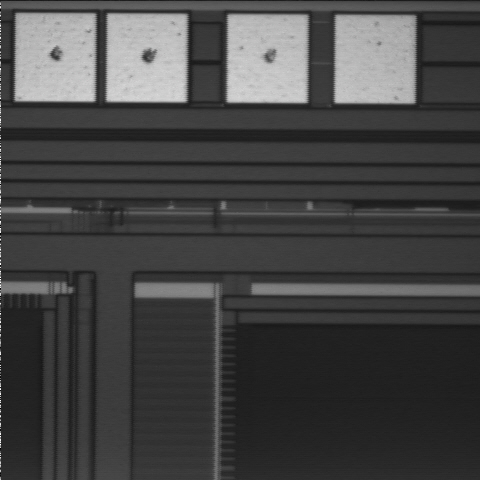pad: (16, 14, 95, 101), (107, 15, 186, 102), (228, 15, 307, 102), (335, 16, 414, 103)
